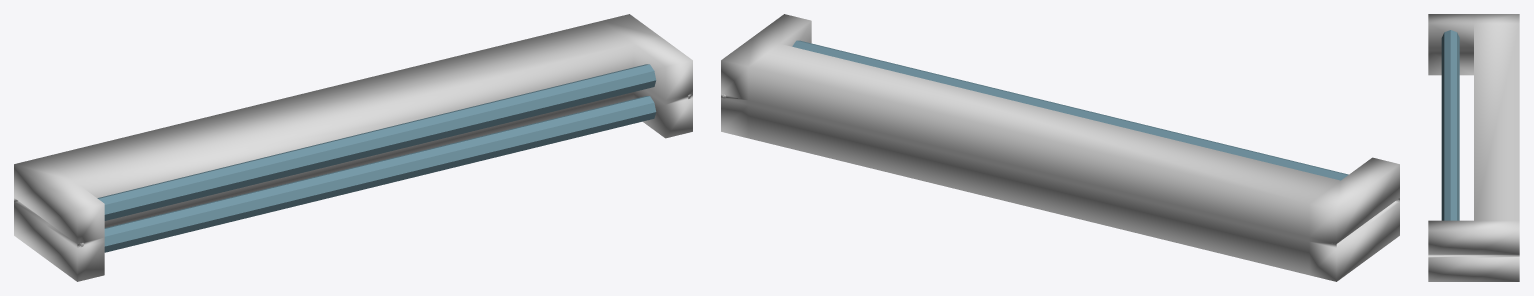
The picture shows the model from 3 angles, left to right: view 1: azimuth 30°, elevation 25°; view 2: azimuth 150°, elevation 25°; view 3: azimuth 270°, elevation 25°; orthographic projection. The views are drawn at different scales.
Visible parts, largest first — view 1: Cube; view 2: Cube; view 3: Cube.
Part boxes in pixels (x1=…): Cube: x1=14, y1=14, x2=692, y2=281; Cube: x1=721, y1=14, x2=1399, y2=281; Cube: x1=1428, y1=14, x2=1519, y2=281.
Size of the model in its own units: 90 by 10 by 16.
